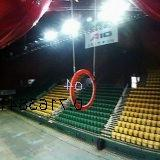Orange_Circle_GShape: (70, 69, 96, 110)
